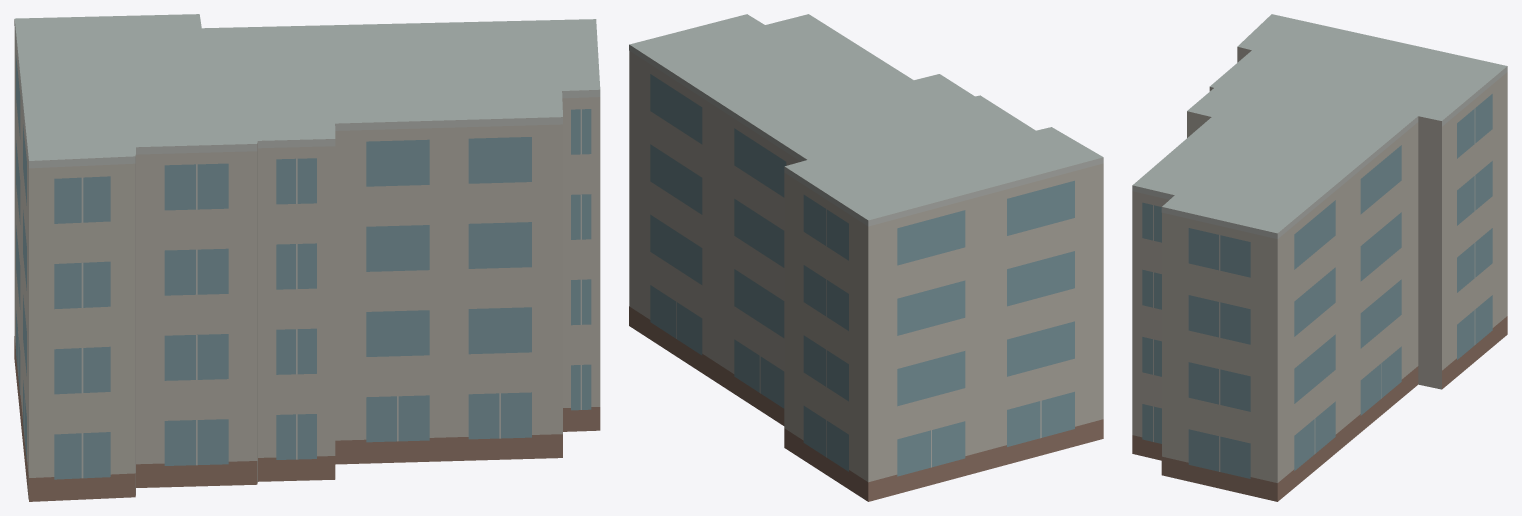
File: survey-upis-32520337.glb
3 renders of one model, left to right at view 1: azimuth 30°, elevation 25°; view 2: azimuth 150°, elevation 25°; view 3: azimuth 270°, elevation 25°, orthographic. The views are drawn at different scales.
Visible parts, largest first — view 1: survey-upis-32520337.tmp; view 2: survey-upis-32520337.tmp; view 3: survey-upis-32520337.tmp.
Boxes of the visible parts, x1,y1,x2,y2 form: survey-upis-32520337.tmp: [14, 14, 600, 501]; survey-upis-32520337.tmp: [629, 14, 1103, 501]; survey-upis-32520337.tmp: [1132, 14, 1507, 501].
Size of the model in its own units: 19.82 by 11.3 by 14.32.
